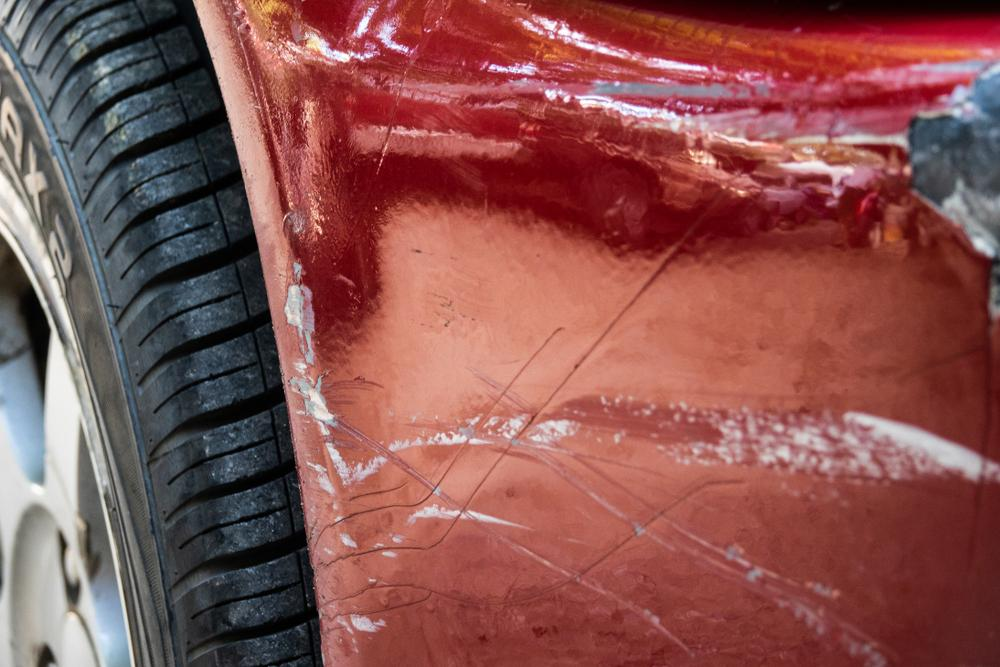scratch: (273, 260, 1000, 667), (900, 53, 1000, 344)
